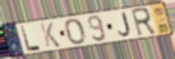9: (87, 14, 107, 43)
J: (117, 11, 133, 38)
K: (39, 21, 62, 49)
L: (20, 25, 43, 53)
O: (64, 17, 87, 46)
R: (129, 6, 158, 39)
